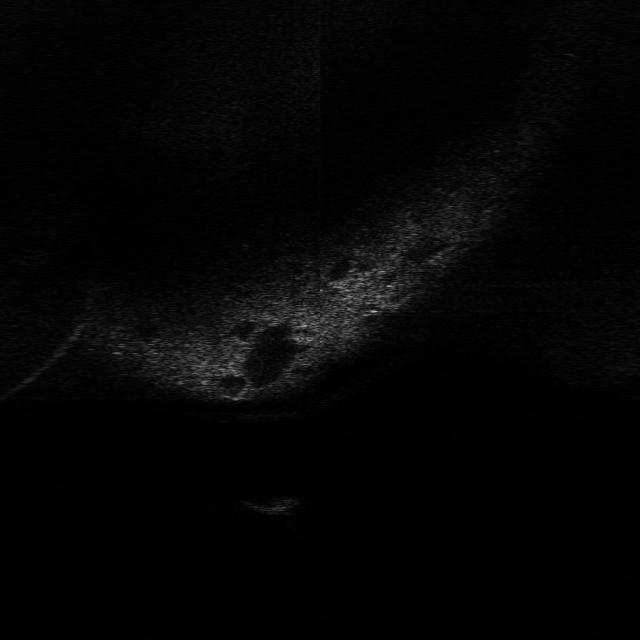cube: (239, 490, 302, 516)
